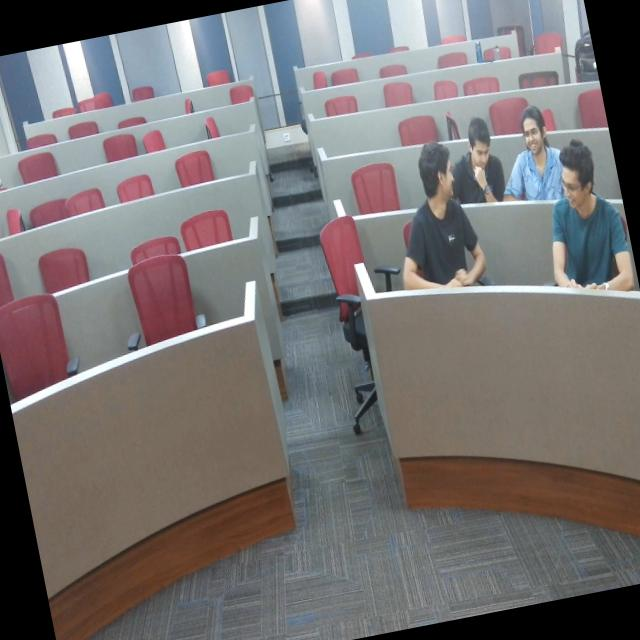cheating: (394, 137, 508, 329), (532, 134, 640, 330), (504, 102, 566, 218)
